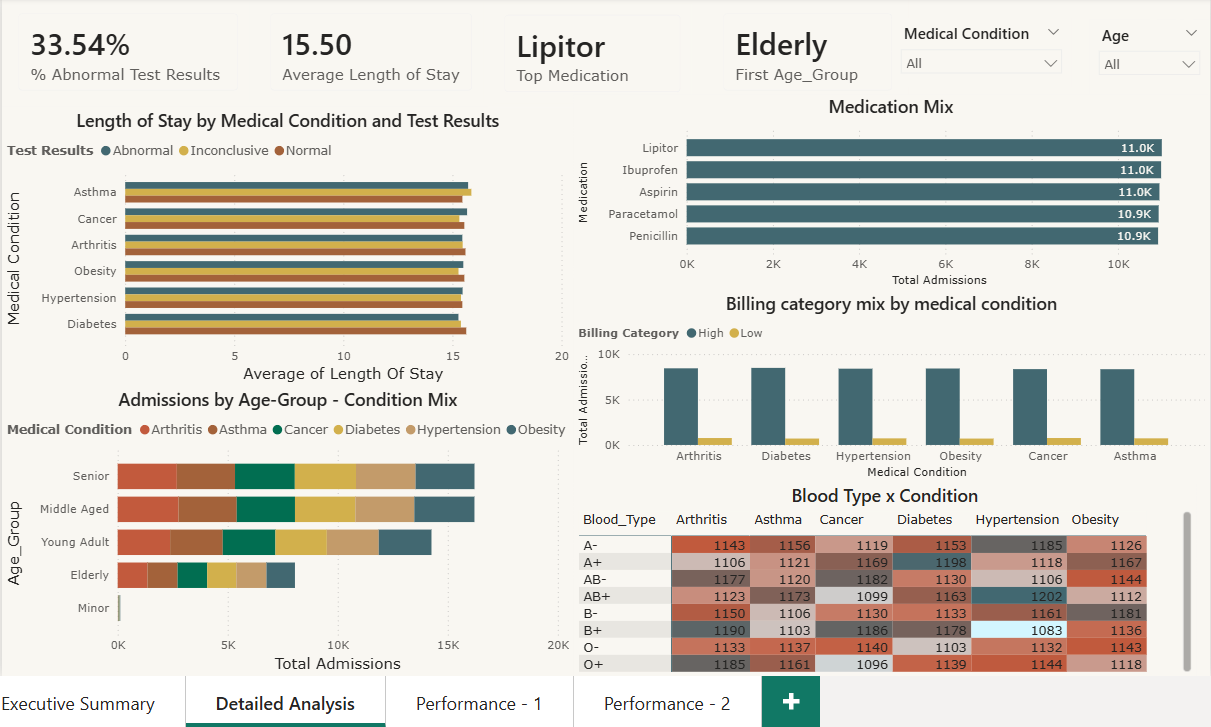

The page's visual inventory and layout, read from the dashboard file:
{"tool":"powerbi","page":{"name":"Detailed Analysis","canvas":[1280,720],"ordinal":1},"visuals":[{"type":"cardVisual","fields":{"Data":["Measures_Table.% Abnormal Test Results"]},"box":[0,0,267.2,116.1],"z":0},{"type":"cardVisual","fields":{"Data":["Measures_Table.Average Length of Stay"]},"box":[267.2,0,248.1,116.1],"z":1000},{"type":"cardVisual","fields":{"Data":["Measures_Table.Top Medication"]},"box":[515.4,1.6,221.1,116.1],"z":2000},{"type":"cardVisual","fields":{"Data":["Min(Dim_ Age_Group.Age_Group)"]},"box":[747.6,0,213.1,116.1],"z":3000},{"type":"clusteredBarChart","title":"Length of Stay by Medical Condition and Test Results","fields":{"Y":["Avg(Fact_Admissions.Length Of Stay)"],"Category":["Dim_Medical Condition.Medical Condition"],"Series":["Fact_Admissions.Test Results"]},"box":[0,117.7,606,295.9],"z":4000},{"type":"clusteredBarChart","title":" Medication Mix","fields":{"Category":["Dim_Medication.Medication"],"Y":["Measures_Table.Total Admissions"]},"box":[606,103.4,672.8,208.4],"z":5000},{"type":"barChart","title":"Admissions by Age-Group -  Condition Mix","fields":{"Y":["Measures_Table.Total Admissions"],"Category":["Dim_ Age_Group.Age_Group"],"Series":["Dim_Medical Condition.Medical Condition"]},"box":[0,413.6,606,307],"z":6000},{"type":"pivotTable","title":"Blood Type x Condition","fields":{"Rows":["Dim_Blood_Type.Blood_Type"],"Columns":["Dim_Medical Condition.Medical Condition"],"Values":["Measures_Table.Total Admissions"]},"box":[606,515.4,660.1,205.2],"z":7000},{"type":"slicer","fields":{"Values":["Dim_Medical Condition.Medical Condition"]},"box":[943.2,22.3,190.9,73.2],"z":8000},{"type":"slicer","fields":{"Values":["Fact_Admissions.Age"]},"box":[1153.2,23.9,127.2,79.5],"z":9000},{"type":"clusteredColumnChart","title":"Billing category mix by medical condition","fields":{"Category":["Dim_Medical Condition.Medical Condition"],"Y":["Measures_Table.Total Admissions"],"Series":["Dim_Billing_Category.Billing Category"]},"box":[606,311.8,674.4,203.6],"z":10000}]}

Visuals, with their boxes on the page's 1280x720 design canvas (x1, y1, x2, y2). These are canvas units, not pixel positions in the 1211x727 screenshot, which may show the page scaled, cropped or inside an application window:
cardVisual - Measures_Table.% Abnormal Test Results: <region>0, 0, 267, 116</region>
cardVisual - Measures_Table.Average Length of Stay: <region>267, 0, 515, 116</region>
cardVisual - Measures_Table.Top Medication: <region>515, 2, 736, 118</region>
cardVisual - Min(Dim_ Age_Group.Age_Group): <region>748, 0, 961, 116</region>
"Length of Stay by Medical Condition and Test Results" clusteredBarChart: <region>0, 118, 606, 414</region>
" Medication Mix" clusteredBarChart: <region>606, 103, 1279, 312</region>
"Admissions by Age-Group -  Condition Mix" barChart: <region>0, 414, 606, 721</region>
"Blood Type x Condition" pivotTable: <region>606, 515, 1266, 721</region>
slicer - Dim_Medical Condition.Medical Condition: <region>943, 22, 1134, 96</region>
slicer - Fact_Admissions.Age: <region>1153, 24, 1280, 103</region>
"Billing category mix by medical condition" clusteredColumnChart: <region>606, 312, 1280, 515</region>
